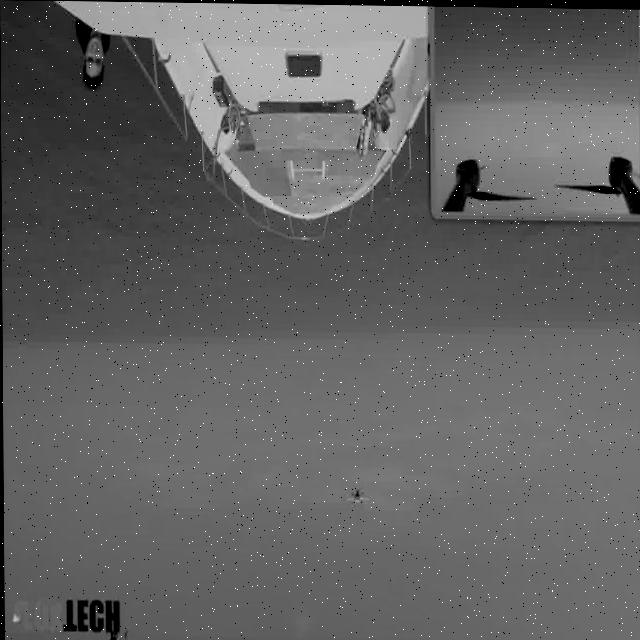drone: (332, 477, 378, 523)
